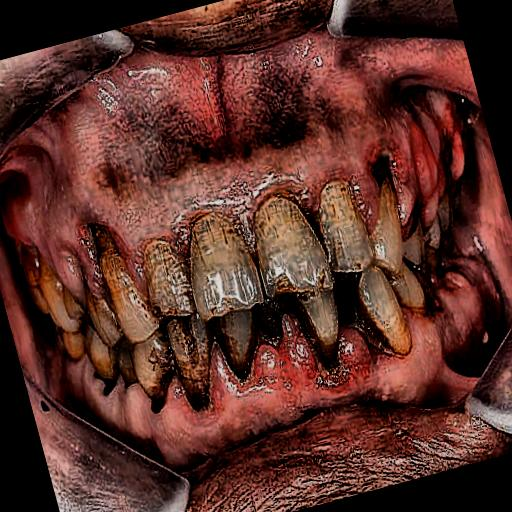Calculus: (19, 168, 459, 410), (94, 226, 159, 343)
